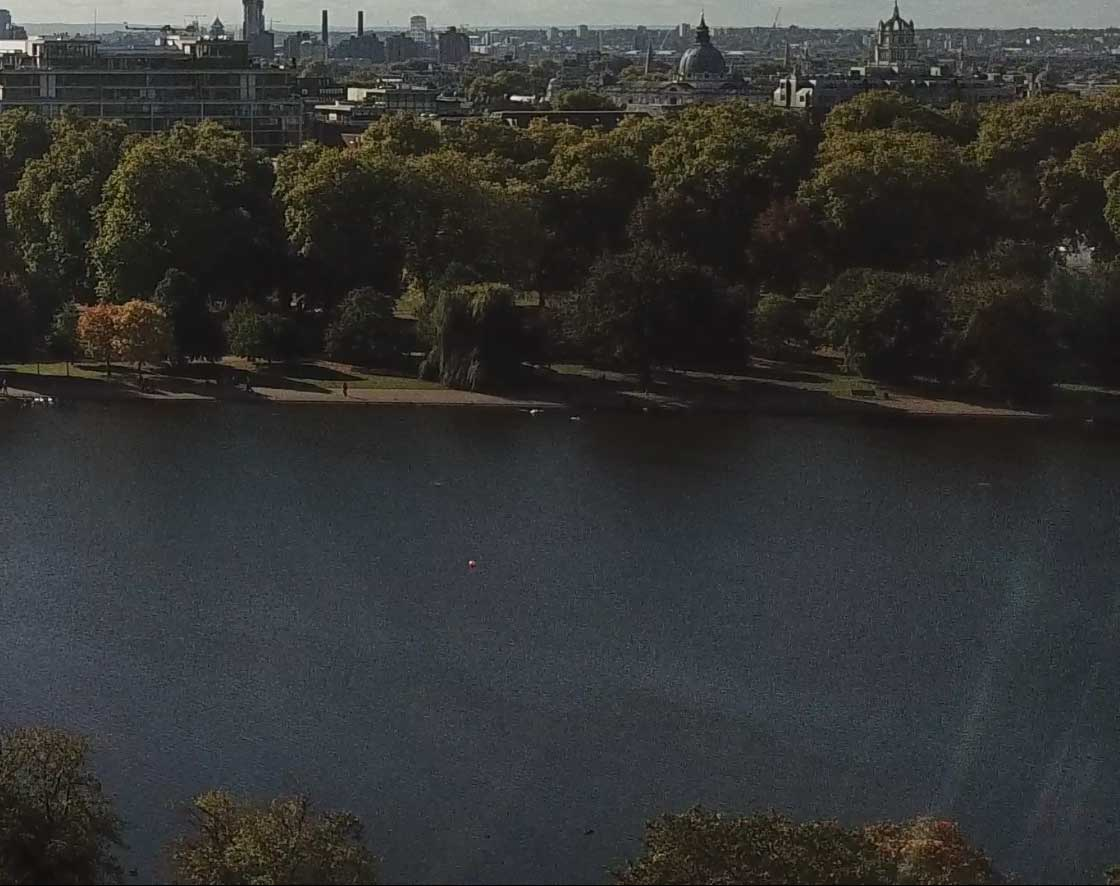trees: (19, 132, 1102, 356)
water: (44, 422, 1104, 764)
